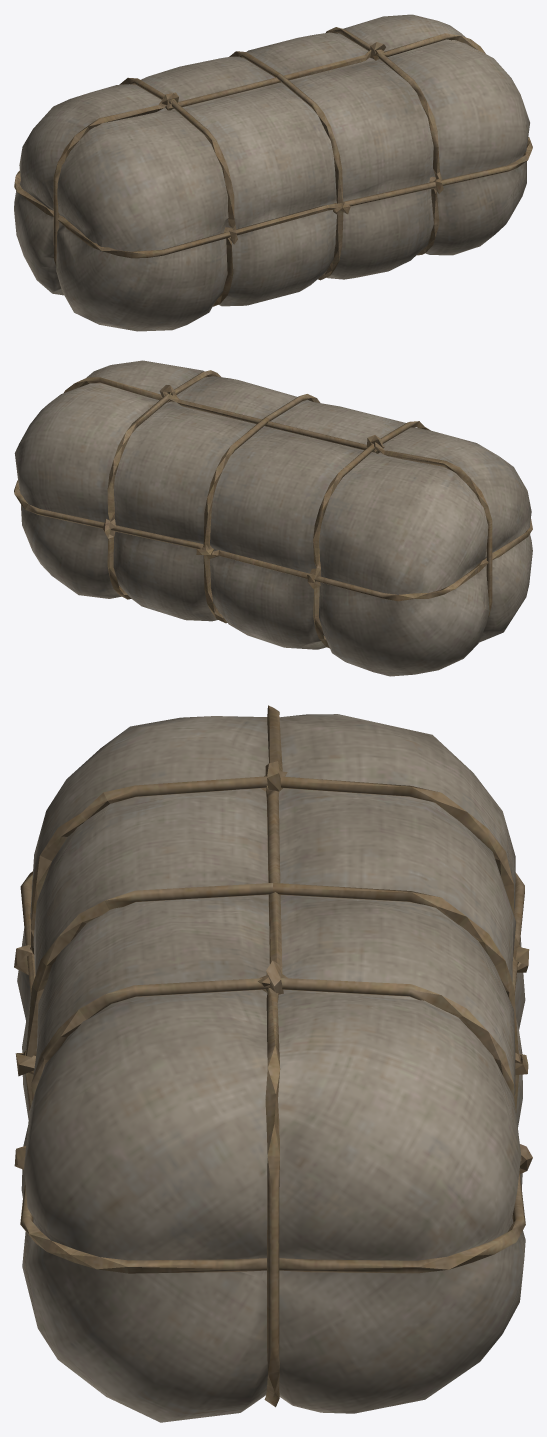
Rendered from SM_Bale.FBX.
The picture shows the model from 3 angles, top to bottom: view 1: azimuth 30°, elevation 25°; view 2: azimuth 150°, elevation 25°; view 3: azimuth 270°, elevation 25°; orthographic projection. The views are drawn at different scales.
Visible parts, largest first — view 1: SM_Bale; view 2: SM_Bale; view 3: SM_Bale.
Part boxes in pixels (x1=…): SM_Bale: x1=14, y1=14, x2=532, y2=331; SM_Bale: x1=14, y1=360, x2=532, y2=676; SM_Bale: x1=14, y1=705, x2=532, y2=1422.
Bounding box in the file's own units: 110 × 47.6 × 55.03.
